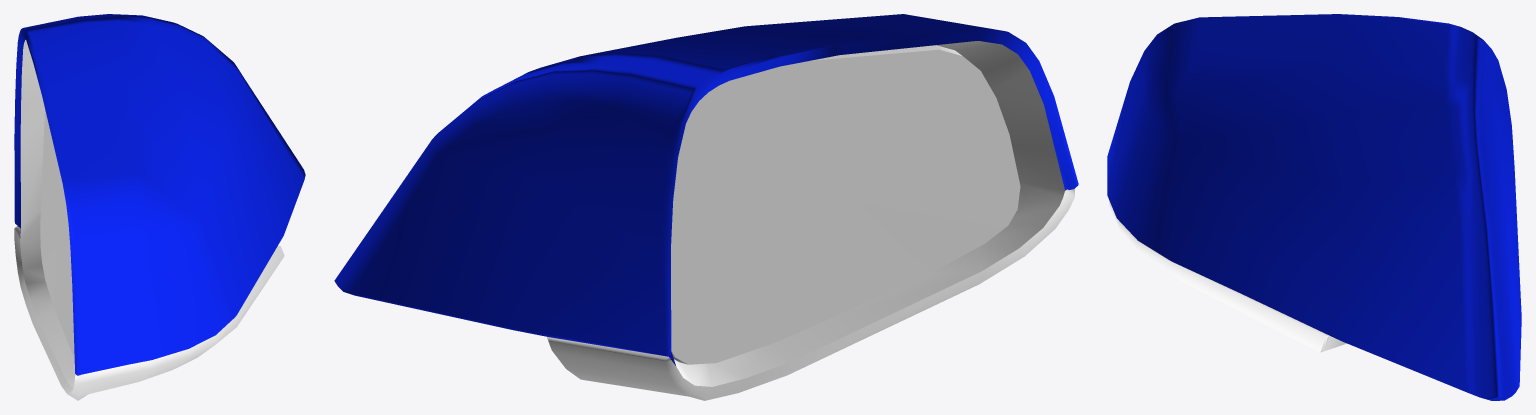
Rendered from Door_RF_Mirror.obj.
3 views of the same model, side by side, from view 1: azimuth 30°, elevation 25°; view 2: azimuth 150°, elevation 25°; view 3: azimuth 270°, elevation 25° (orthographic). The views are drawn at different scales.
Parts seen in each view (by area): view 1: Door_RF_Mirror; view 2: Door_RF_Mirror; view 3: Door_RF_Mirror.
Boxes of the visible parts, x1,y1,x2,y2 form: Door_RF_Mirror: (14,14,305,400); Door_RF_Mirror: (334,14,1078,400); Door_RF_Mirror: (1107,14,1521,400).
Size of the model in its own units: 0.2474 by 0.1548 by 0.2107.
